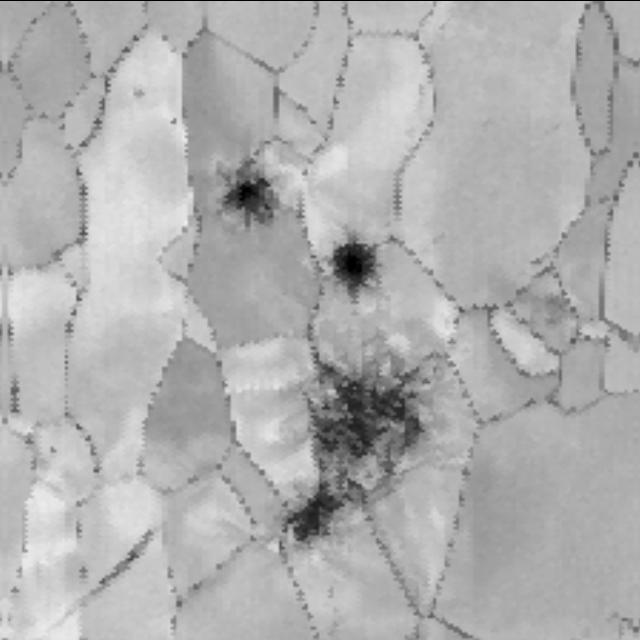good_void: (278, 351, 431, 551), (218, 159, 296, 241), (316, 226, 387, 306), (506, 283, 574, 331), (127, 84, 151, 104), (43, 442, 61, 458), (163, 115, 183, 129)
